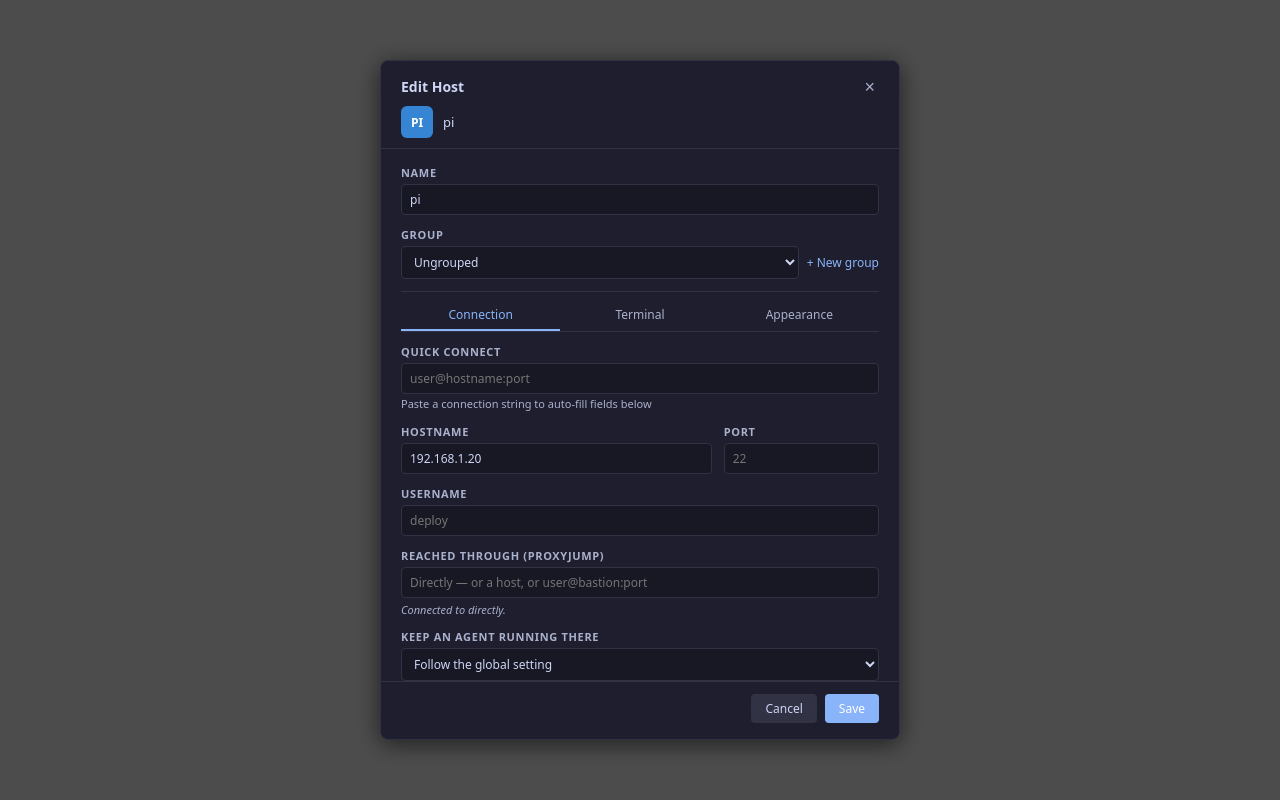
Test case: HostModal Default Shell: the host's default launch profile (#802) › says why the default could not be saved, and stays open
Click the tab with id "tab-terminal".
click(640, 316)  # box [560,300,720,331]
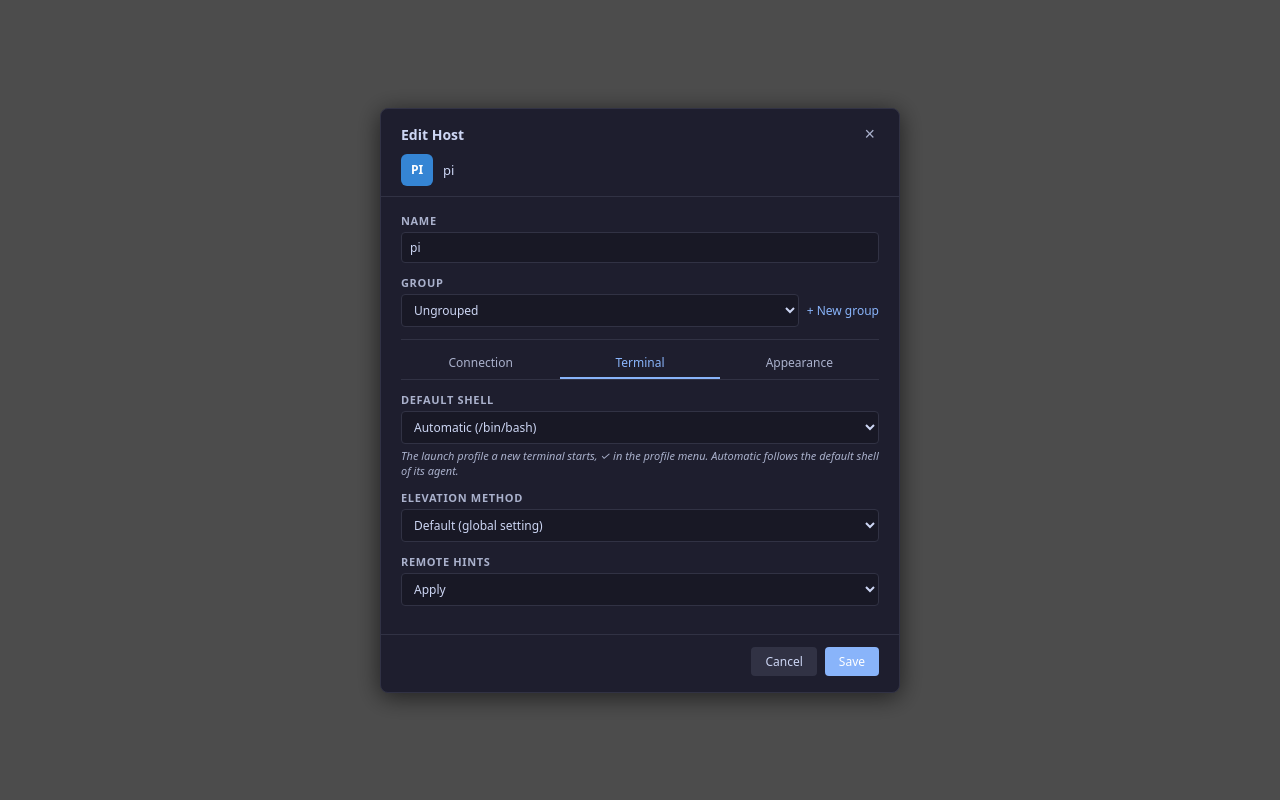
Select "fish" in the dropdown with id "host-default-shell" at (640, 427), box [401,410,879,444]
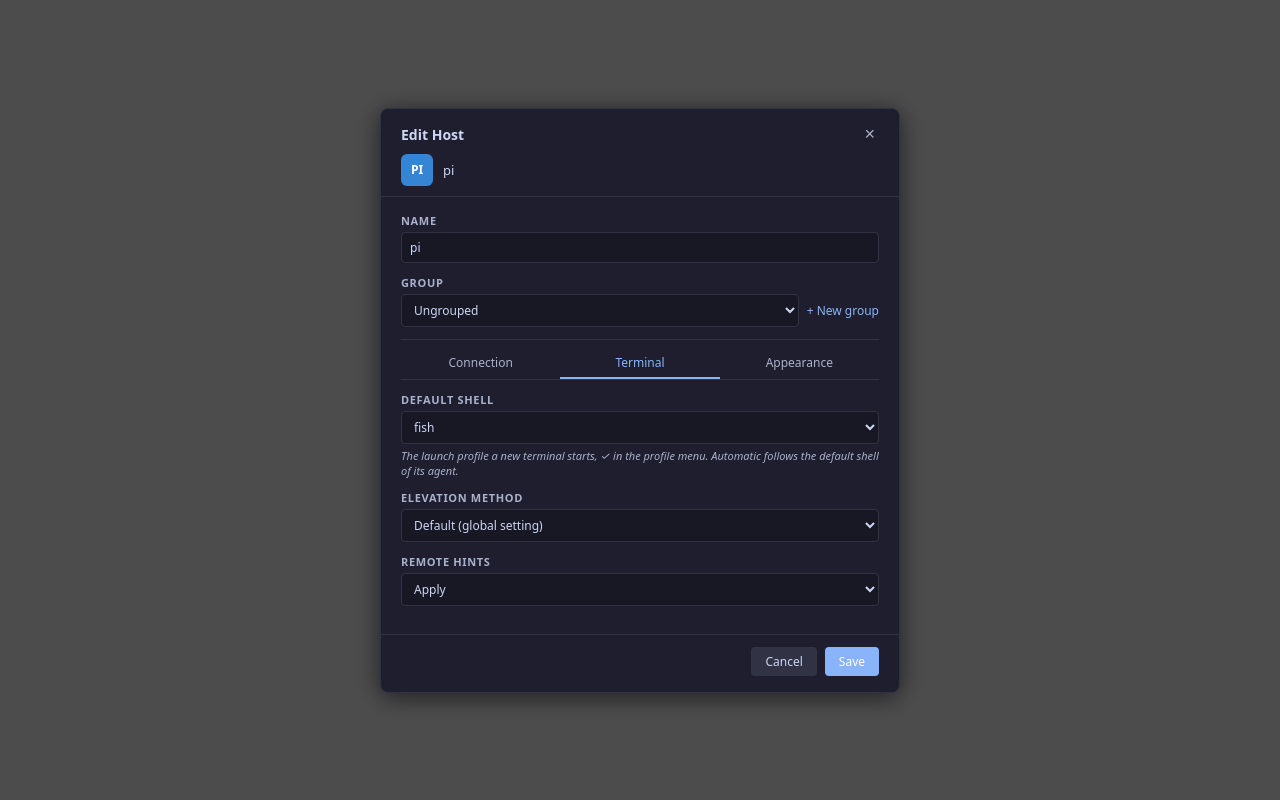
Click the button "Save".
click(852, 661)  # box [825,646,879,676]
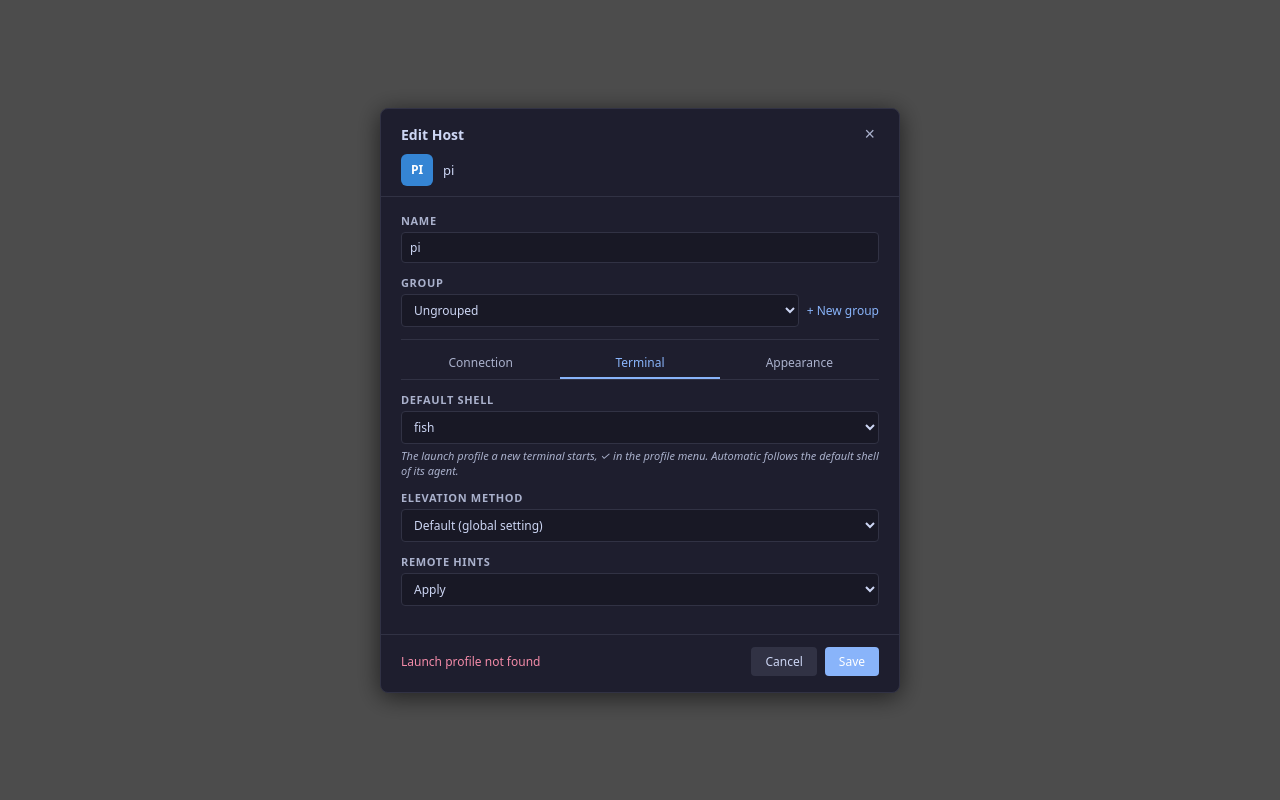
Expected: the message "Launch profile not found" is shown, [401,652,540,670]
